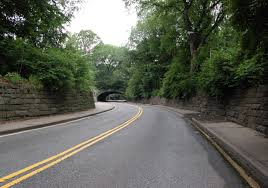strada: (1, 106, 249, 188)
